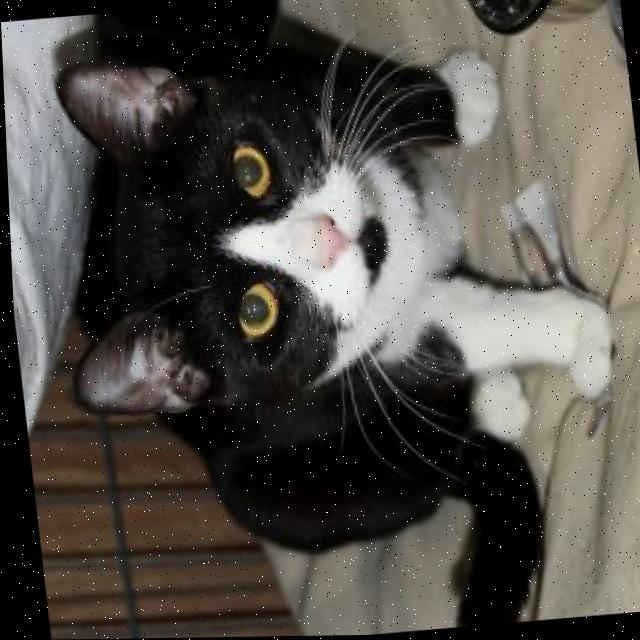Tuxedo: (18, 18, 637, 640)
